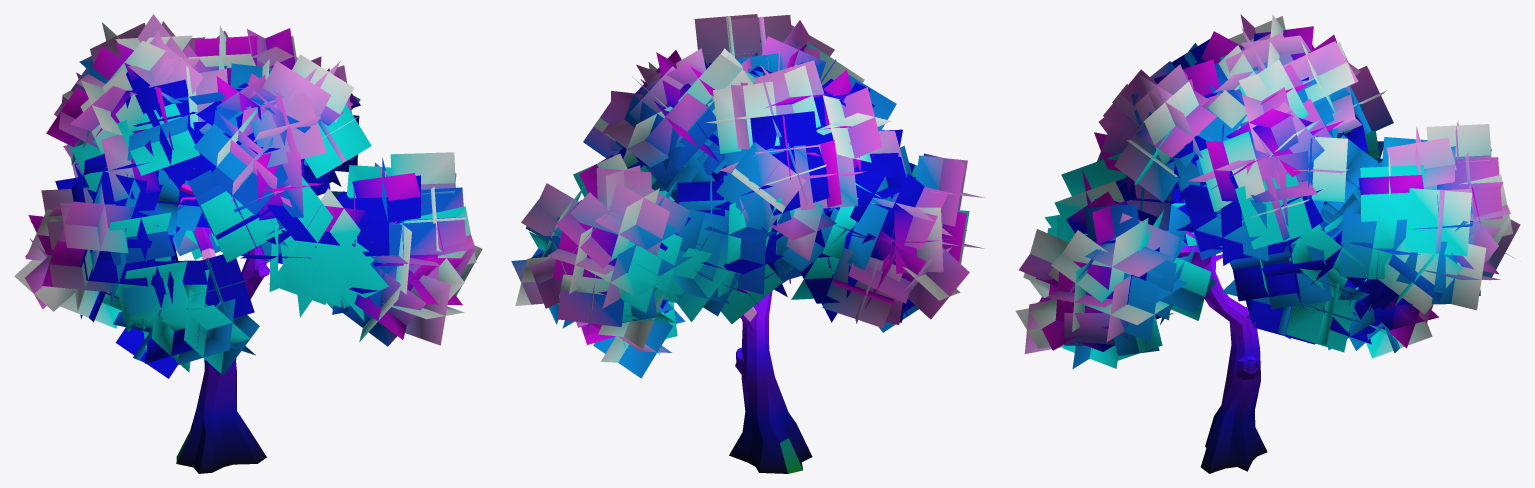
The model's file is PT_Fruit_Tree_01_green.fbx.
3 views of the same model, side by side, from view 1: azimuth 30°, elevation 25°; view 2: azimuth 150°, elevation 25°; view 3: azimuth 270°, elevation 25° (orthographic).
Parts seen in each view (by area): view 1: PT_Fruit_Tree_01_green_LOD0; view 2: PT_Fruit_Tree_01_green_LOD0; view 3: PT_Fruit_Tree_01_green_LOD0.
Part boxes in pixels (x1,y1,x2,y2): PT_Fruit_Tree_01_green_LOD0: (14,14,482,473); PT_Fruit_Tree_01_green_LOD0: (511,14,984,473); PT_Fruit_Tree_01_green_LOD0: (1015,14,1520,473).
Size of what is drawn, in the model's own units: 650 by 658 by 725.
